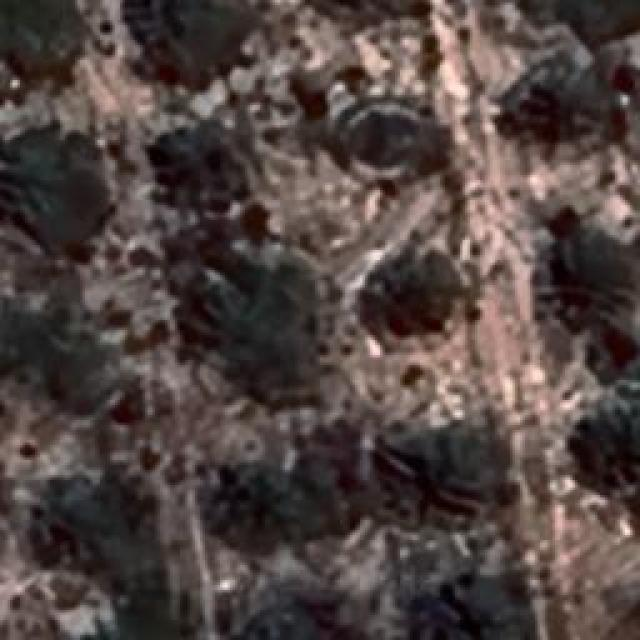PalmTree: (101, 17, 588, 67), (73, 67, 101, 532), (388, 432, 472, 526), (544, 226, 624, 319), (181, 277, 259, 365), (374, 257, 444, 345), (217, 450, 285, 538), (432, 580, 526, 640), (0, 146, 68, 226), (514, 64, 586, 138), (0, 0, 69, 70), (136, 0, 216, 58), (165, 128, 228, 188), (587, 421, 640, 488), (244, 602, 328, 640), (303, 0, 407, 28), (308, 0, 402, 9)
